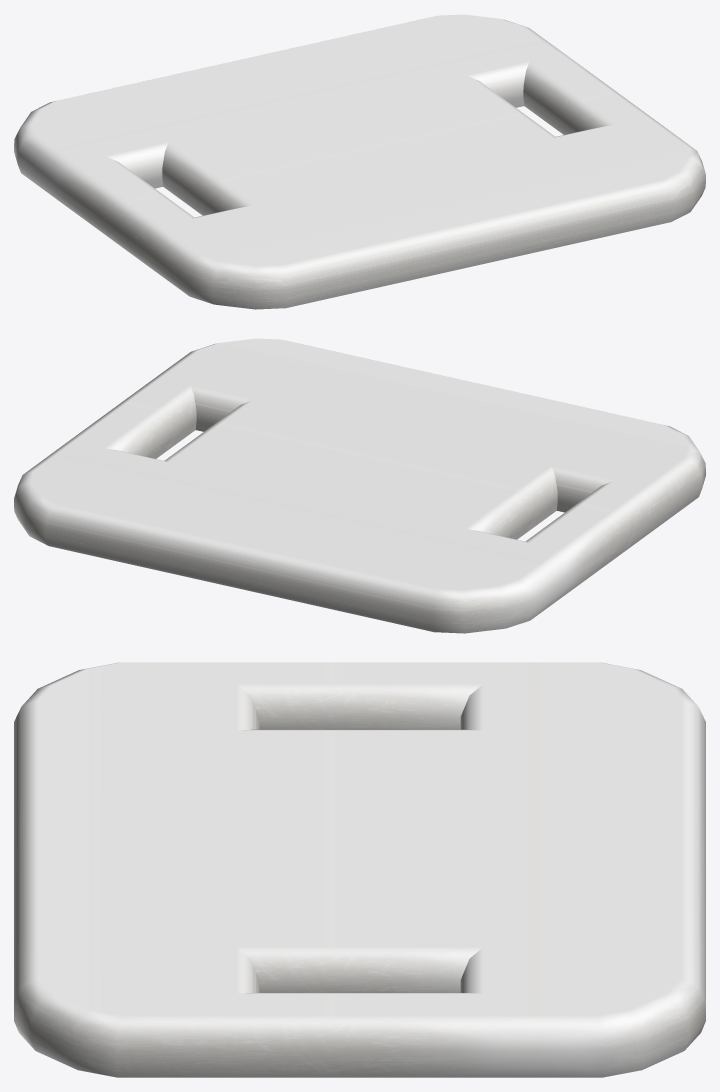
Rendered from ChoppingBoardFBX.FBX.
3 renders of one model, top to bottom at view 1: azimuth 30°, elevation 25°; view 2: azimuth 150°, elevation 25°; view 3: azimuth 270°, elevation 25°, orthographic. The views are drawn at different scales.
Parts seen in each view (by area): view 1: ChoppingBoard2; view 2: ChoppingBoard2; view 3: ChoppingBoard2.
Boxes of the visible parts, x1=… form: ChoppingBoard2: x1=14, y1=14, x2=705, y2=309; ChoppingBoard2: x1=14, y1=338, x2=705, y2=633; ChoppingBoard2: x1=14, y1=662, x2=705, y2=1077.
Bounding box in the file's own units: 0.9878 × 0.0877 × 0.8016.
